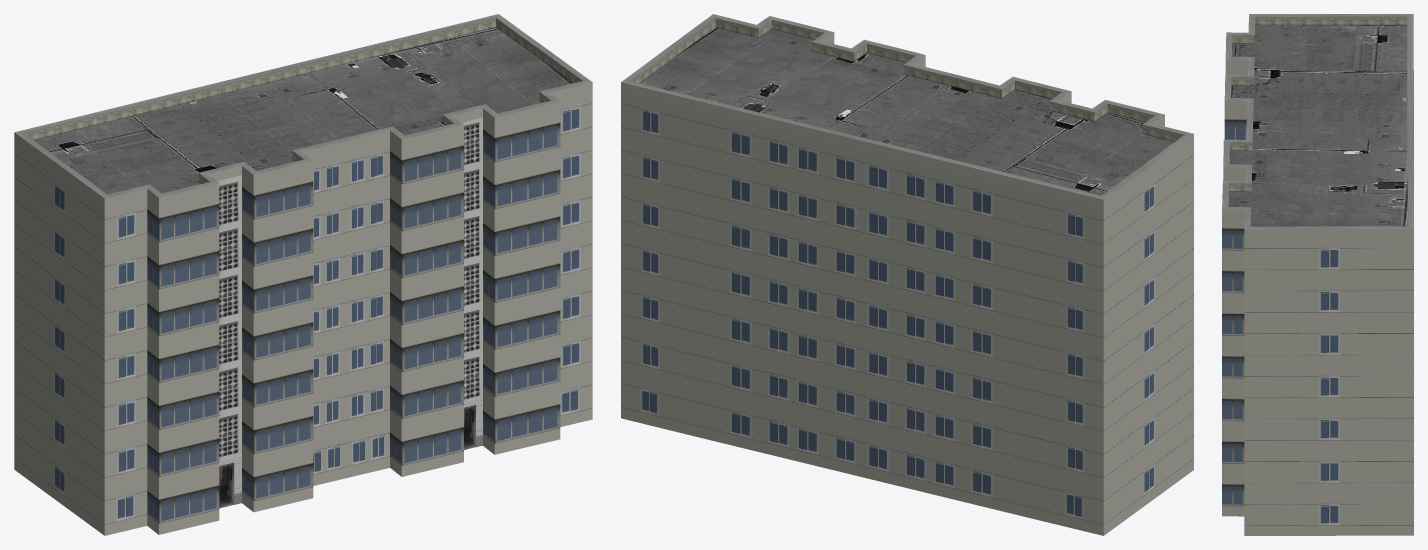
3 renders of one model, left to right at view 1: azimuth 30°, elevation 25°; view 2: azimuth 150°, elevation 25°; view 3: azimuth 270°, elevation 25°, orthographic. The views are drawn at different scales.
Parts seen in each view (by area): view 1: jz28; view 2: jz28; view 3: jz28.
Boxes of the visible parts, <box> form: jz28: <box>14,14,592,535</box>; jz28: <box>621,14,1193,535</box>; jz28: <box>1222,14,1413,535</box>.
Size of the model in its own units: 3279 by 2179 by 1236.
Materials: 9 (9 with a texture image).
